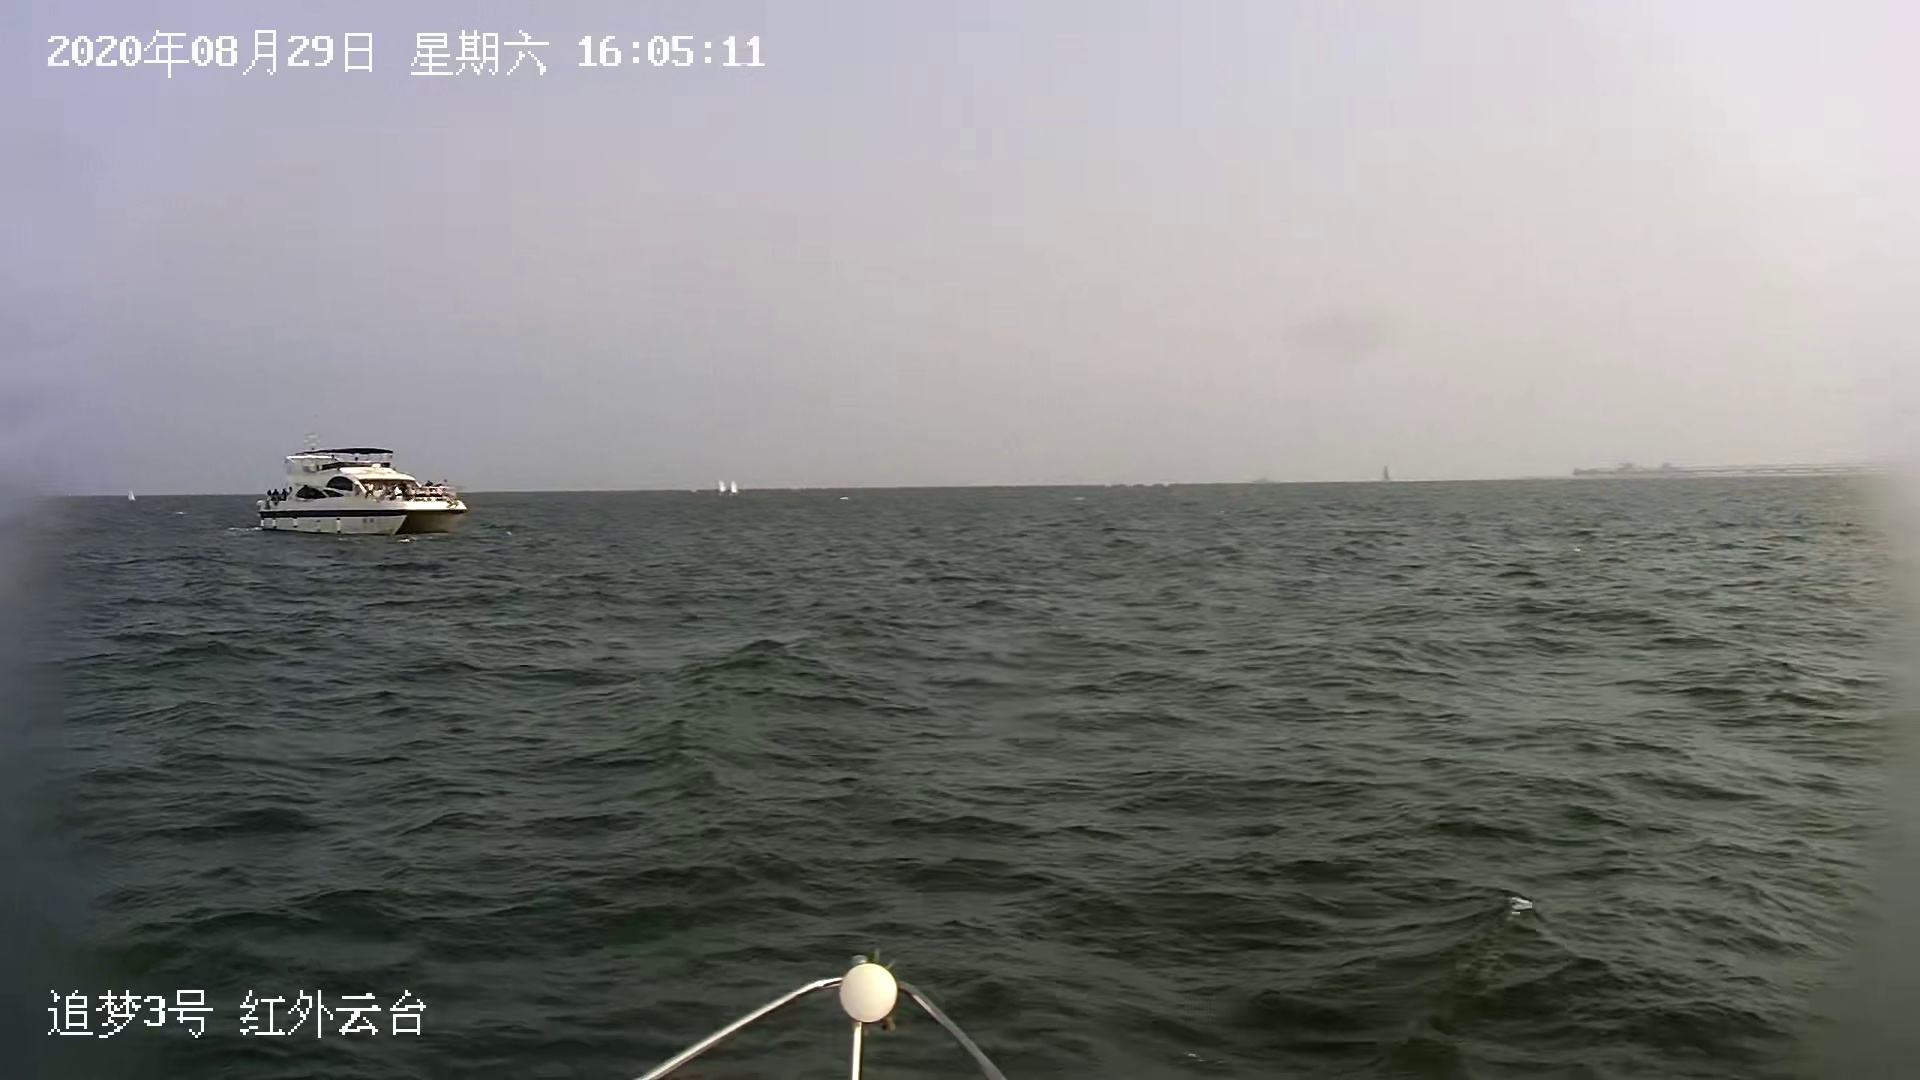barrier: (244, 440, 477, 539), (1382, 462, 1393, 485), (731, 479, 740, 497), (719, 480, 728, 498), (127, 491, 137, 502)
coast: (1572, 456, 1908, 480)
